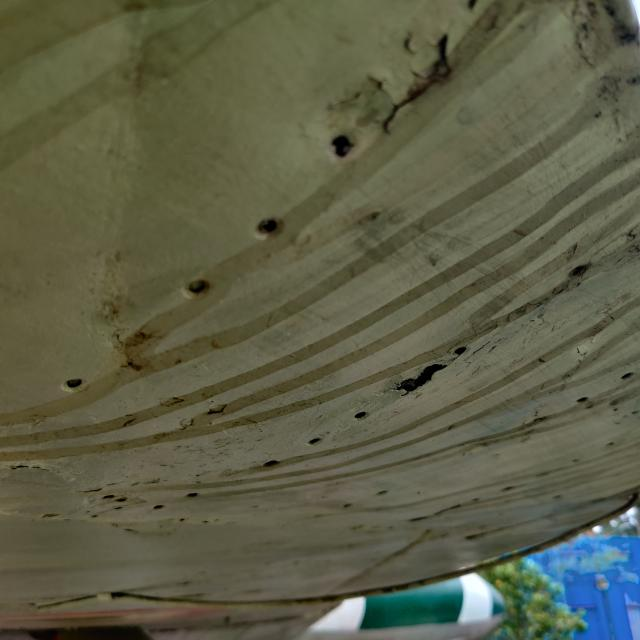crack: (376, 326, 486, 412)
